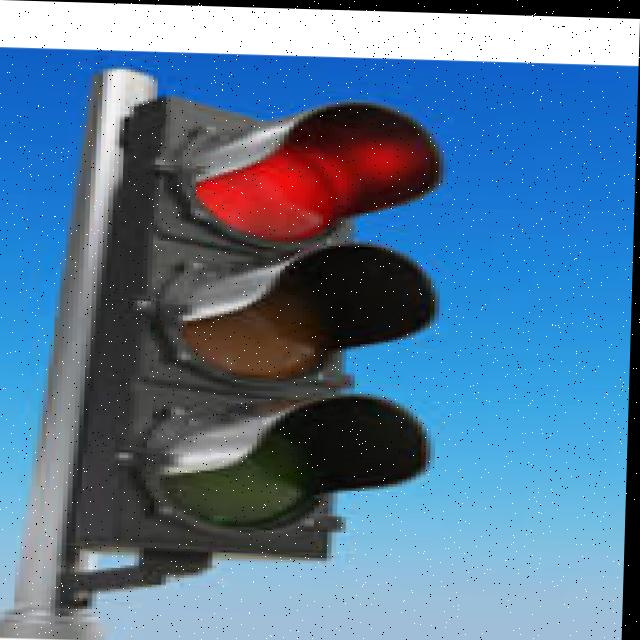light_traffic: (0, 47, 597, 599)
